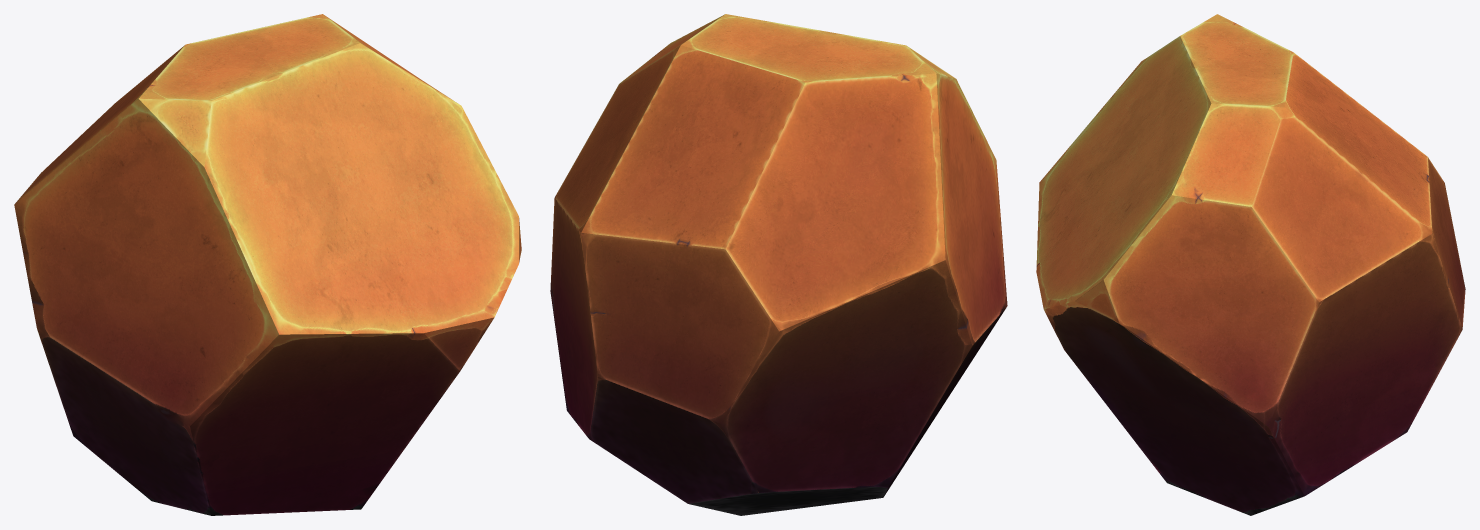
Rendered from rock.gltf.
The picture shows the model from 3 angles, left to right: view 1: azimuth 30°, elevation 25°; view 2: azimuth 150°, elevation 25°; view 3: azimuth 270°, elevation 25°; orthographic projection. The views are drawn at different scales.
Visible parts, largest first — view 1: Object_32; view 2: Object_32; view 3: Object_32.
Part boxes in pixels (left/top/right/bottom): Object_32: left=14, top=14, right=521, bottom=515; Object_32: left=550, top=14, right=1007, bottom=515; Object_32: left=1036, top=14, right=1465, bottom=515.
Size of the model in its own units: 1.14 by 1.18 by 1.11.
Materials: 1 (1 with a texture image).
